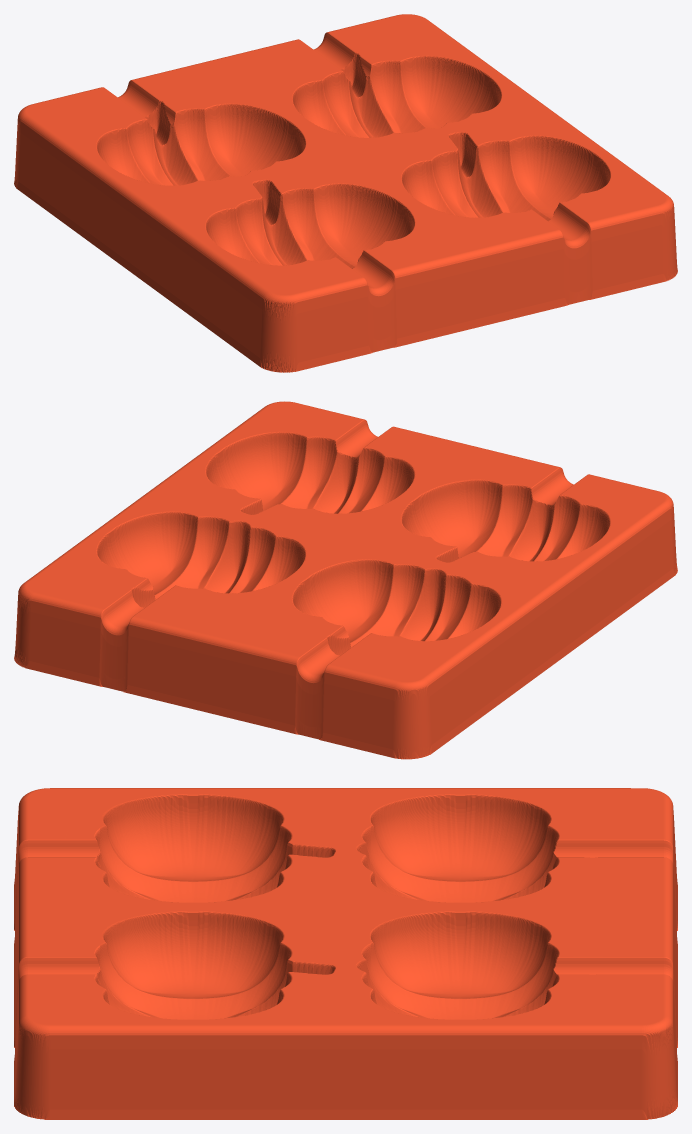
File: mold.glb
3 views of the same model, one above another, from view 1: azimuth 30°, elevation 25°; view 2: azimuth 150°, elevation 25°; view 3: azimuth 270°, elevation 25° (orthographic). The views are drawn at different scales.
Visible parts, largest first — view 1: geometry_0; view 2: geometry_0; view 3: geometry_0.
Boxes of the visible parts, x1,y1,x2,y2 form: geometry_0: (14,14,677,372); geometry_0: (14,401,677,759); geometry_0: (14,788,677,1119).
Bounding box in the file's own units: 0.1468 × 0.0245 × 0.1661.
